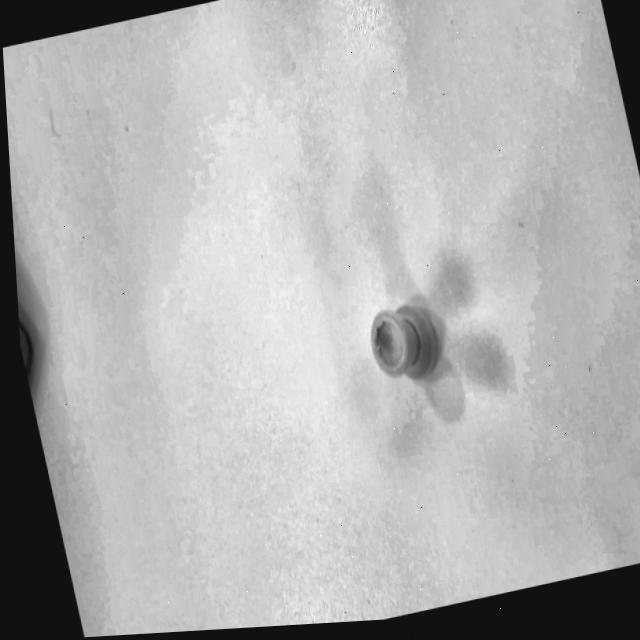white-rook: (349, 259, 469, 411)
